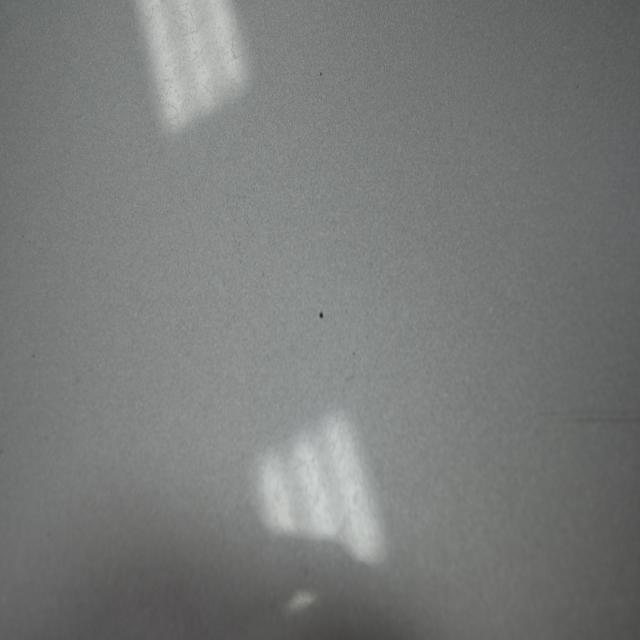dirt: (317, 308, 325, 325), (318, 68, 324, 77)
